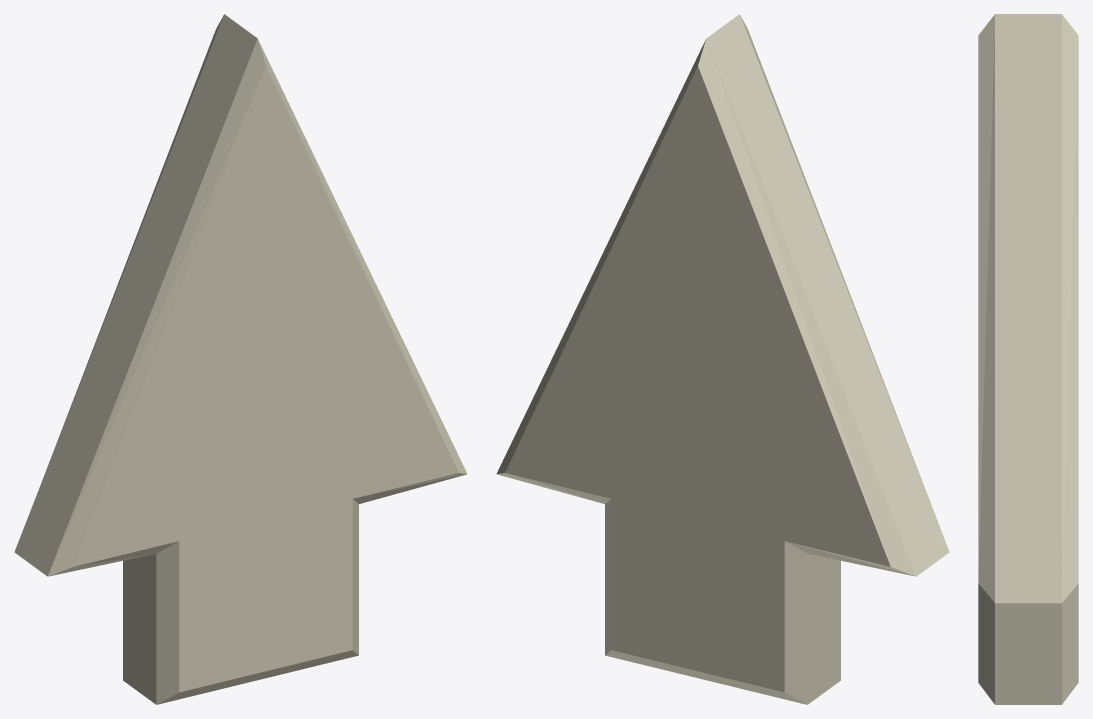
Rendered from primitive-crafting-workshop-notched-arrowhead-aed15f40__21537.glb.
3 renders of one model, left to right at view 1: azimuth 30°, elevation 25°; view 2: azimuth 150°, elevation 25°; view 3: azimuth 270°, elevation 25°, orthographic.
Visible parts, largest first — view 1: notched-arrowhead; view 2: notched-arrowhead; view 3: notched-arrowhead.
Part boxes in pixels (x1,y1,x2,y2): notched-arrowhead: (14, 14, 467, 704); notched-arrowhead: (496, 14, 949, 704); notched-arrowhead: (978, 14, 1078, 704).
Size of the model in its own units: 0.0871 by 0.1272 by 0.018.
